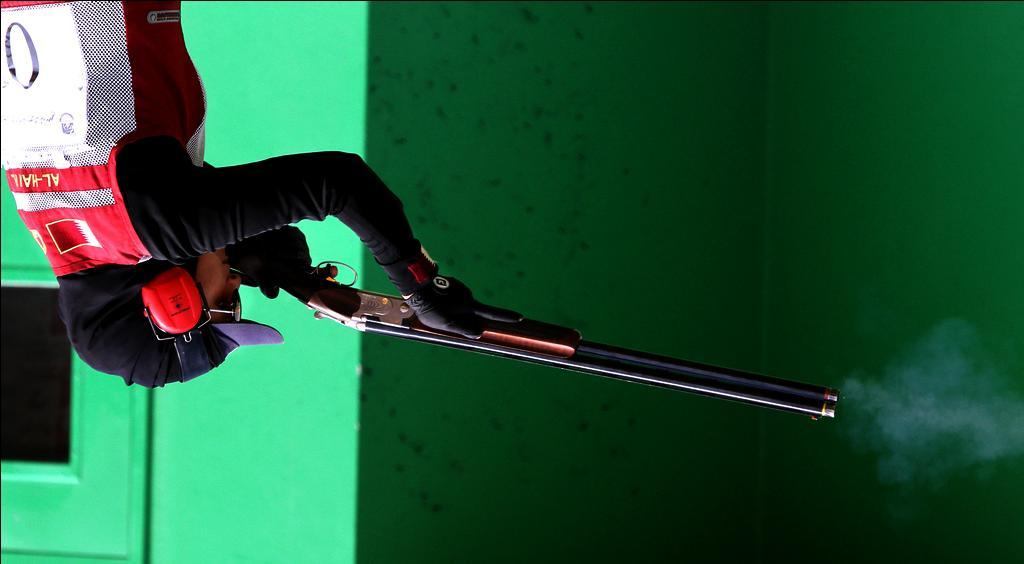gun: (264, 236, 839, 417)
